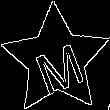M_N: (26, 27, 86, 92)
